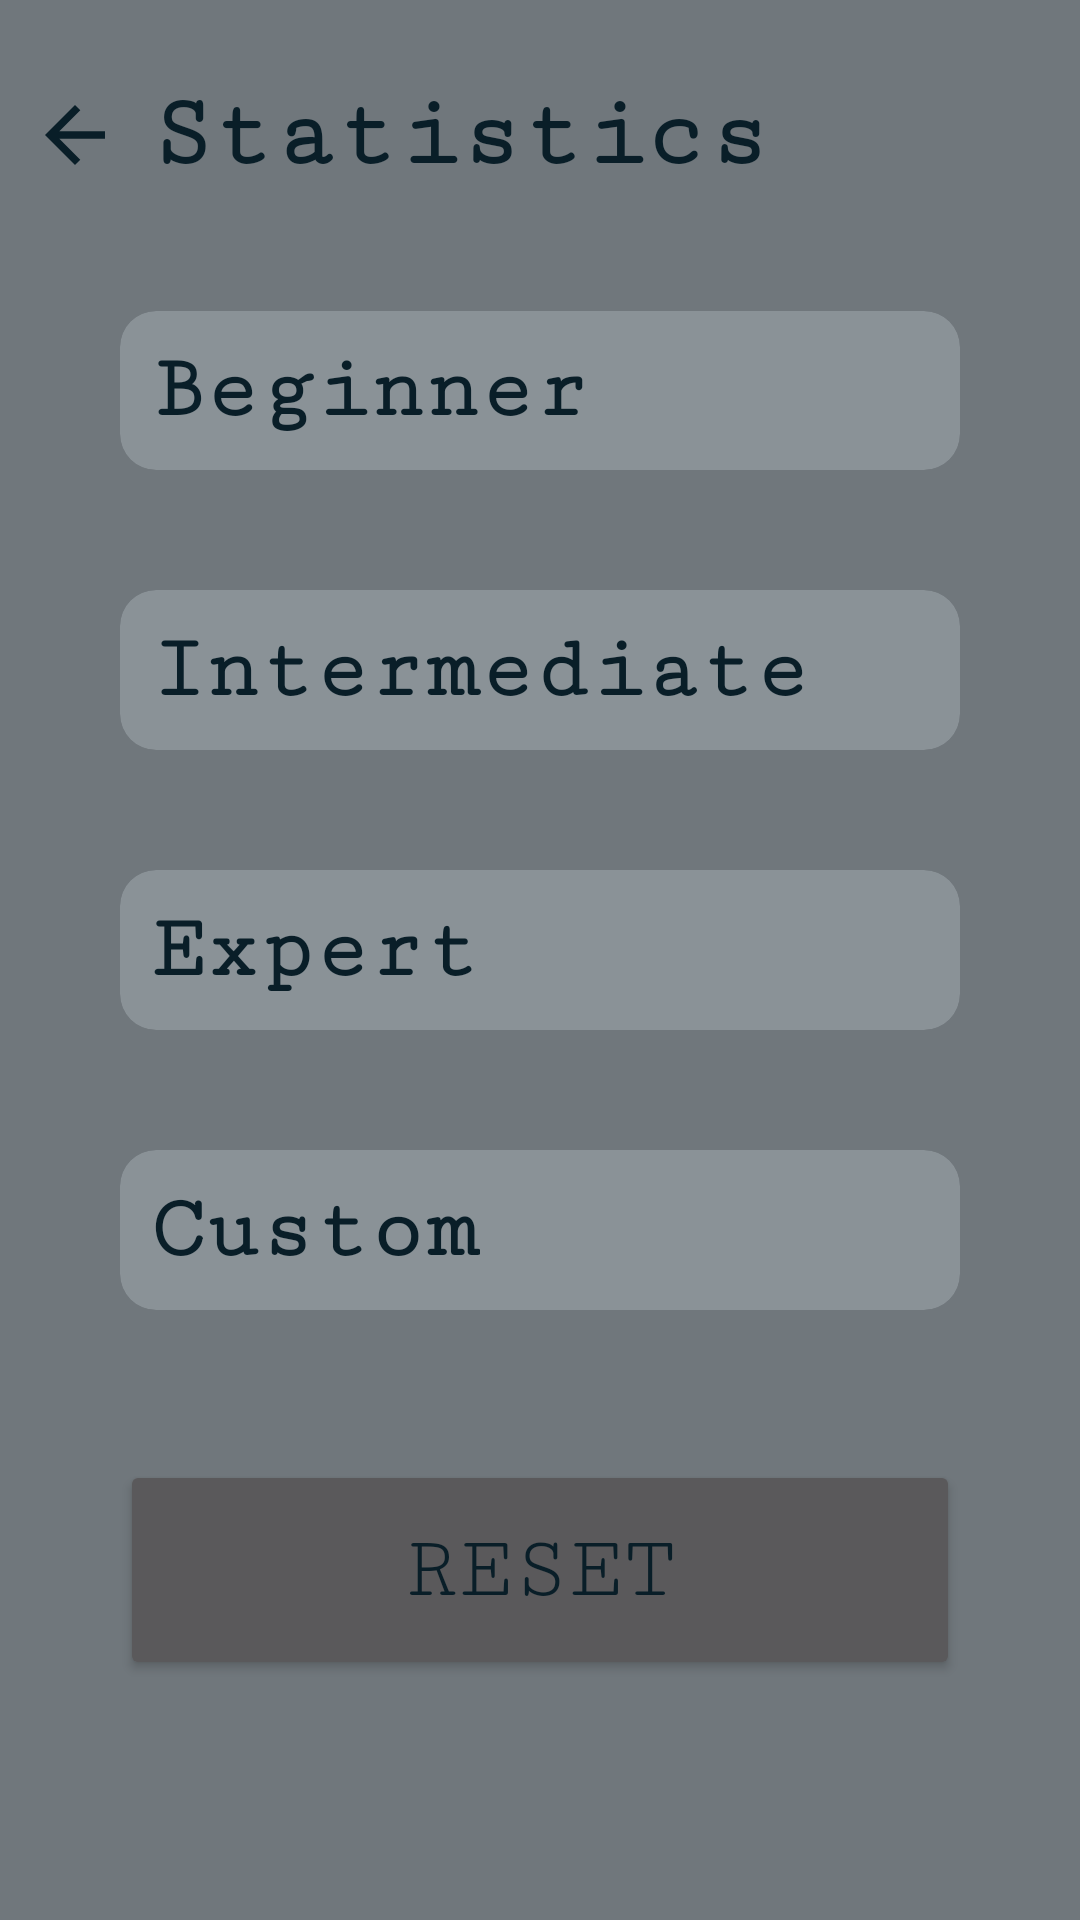

Icon click points for this 1080 × 1920 phone screenshot, format (x=x, y=y):
arrow back: (x=75, y=135)
